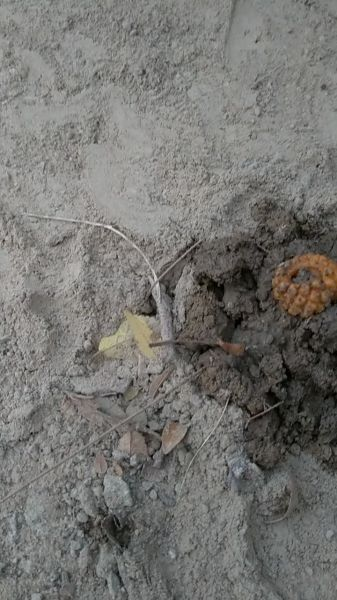eggs: (266, 249, 337, 318)
